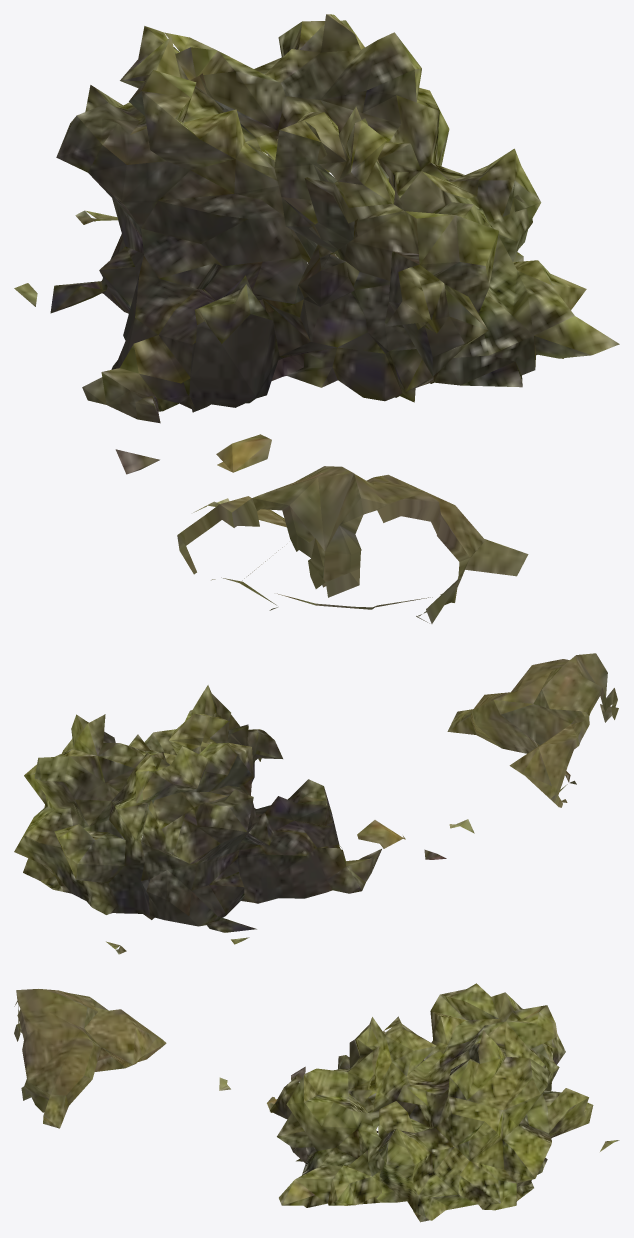
3 views of the same model, one above another, from view 1: azimuth 30°, elevation 25°; view 2: azimuth 150°, elevation 25°; view 3: azimuth 270°, elevation 25° (orthographic). The views are drawn at different scales.
Visible parts, largest first — view 1: Mesh_0; view 2: Mesh_0; view 3: Mesh_0.
Part boxes in pixels (left/top/right/bottom): Mesh_0: left=14, top=14, right=619, bottom=623; Mesh_0: left=14, top=653, right=618, bottom=954; Mesh_0: left=14, top=983, right=619, bottom=1222.
Size of the model in its own units: 23.09 by 9.9 by 35.39.
1 material, 1 textured.
